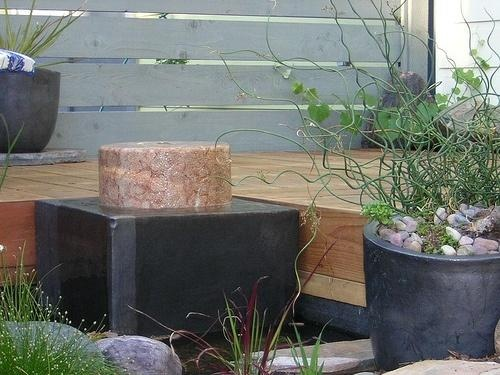pottedplant: (176, 2, 500, 374), (1, 1, 85, 156)
